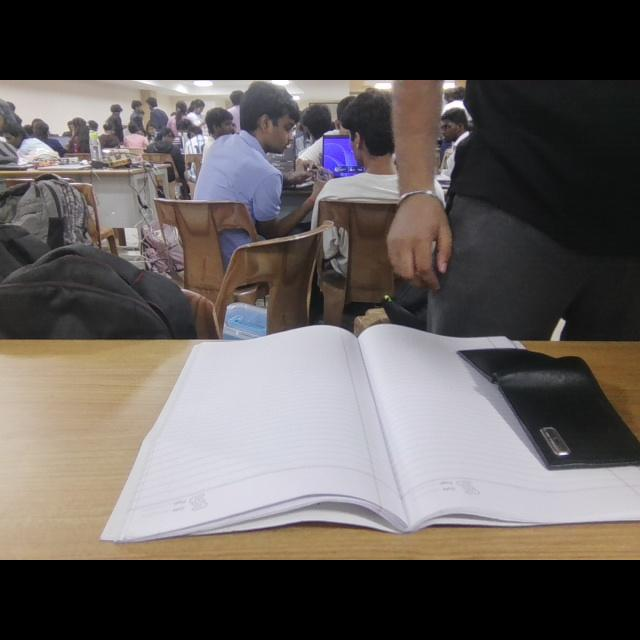wallet: (450, 343, 640, 497)
